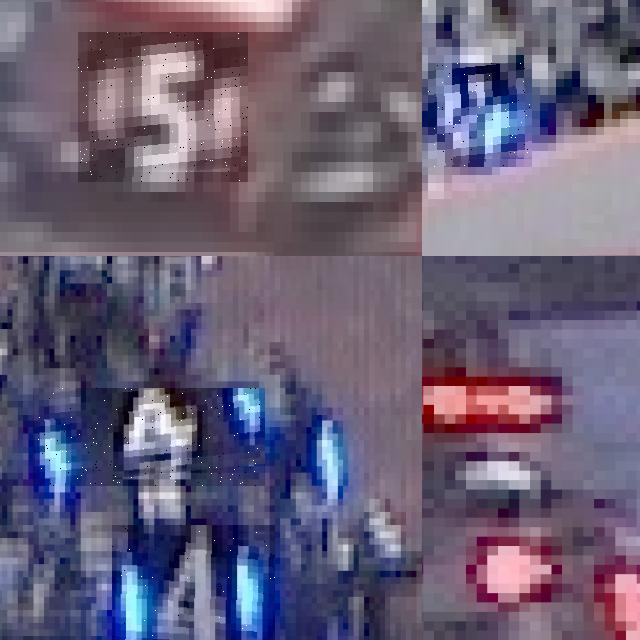B2: (428, 63, 532, 167)
B4: (33, 388, 265, 486), (112, 525, 274, 640)
R5: (78, 32, 248, 182)
